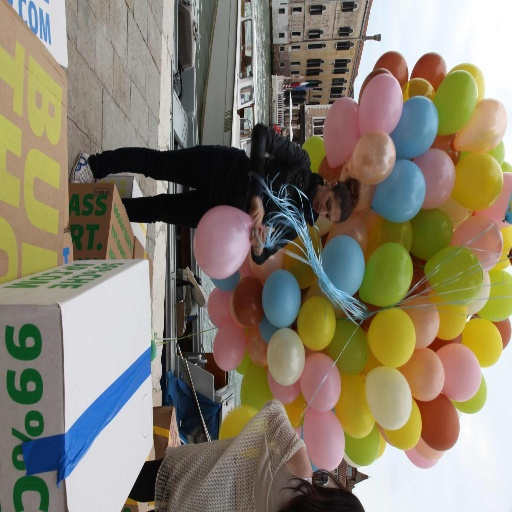hand: (248, 223, 266, 253), (251, 195, 263, 226)
